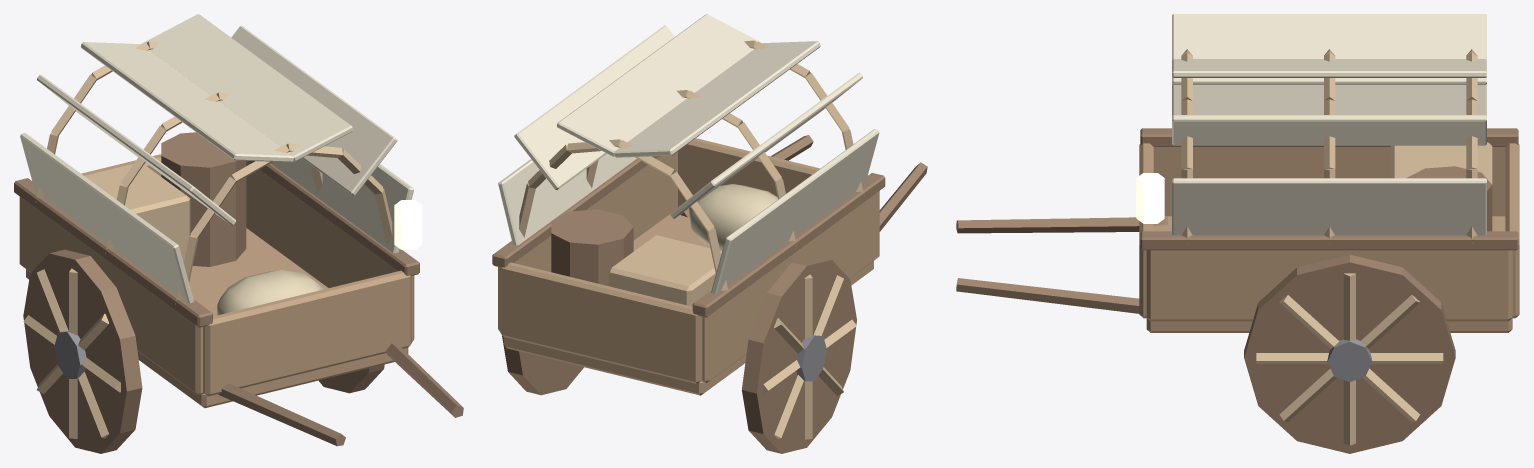
The model's file is prop_cart.glb.
3 renders of one model, left to right at view 1: azimuth 30°, elevation 25°; view 2: azimuth 150°, elevation 25°; view 3: azimuth 270°, elevation 25°, orthographic. The views are drawn at different scales.
Parts seen in each view (by area): view 1: prop_cart, wheels; view 2: prop_cart, wheels; view 3: prop_cart, wheels.
Boxes of the visible parts, x1,y1,x2,y2 form: prop_cart: [14, 14, 463, 446]; wheels: [23, 249, 384, 453]; prop_cart: [492, 14, 927, 395]; wheels: [502, 256, 856, 453]; prop_cart: [956, 14, 1519, 332]; wheels: [1244, 254, 1455, 453].
Bounding box in the file's own units: 1.62 × 1.88 × 2.77.
